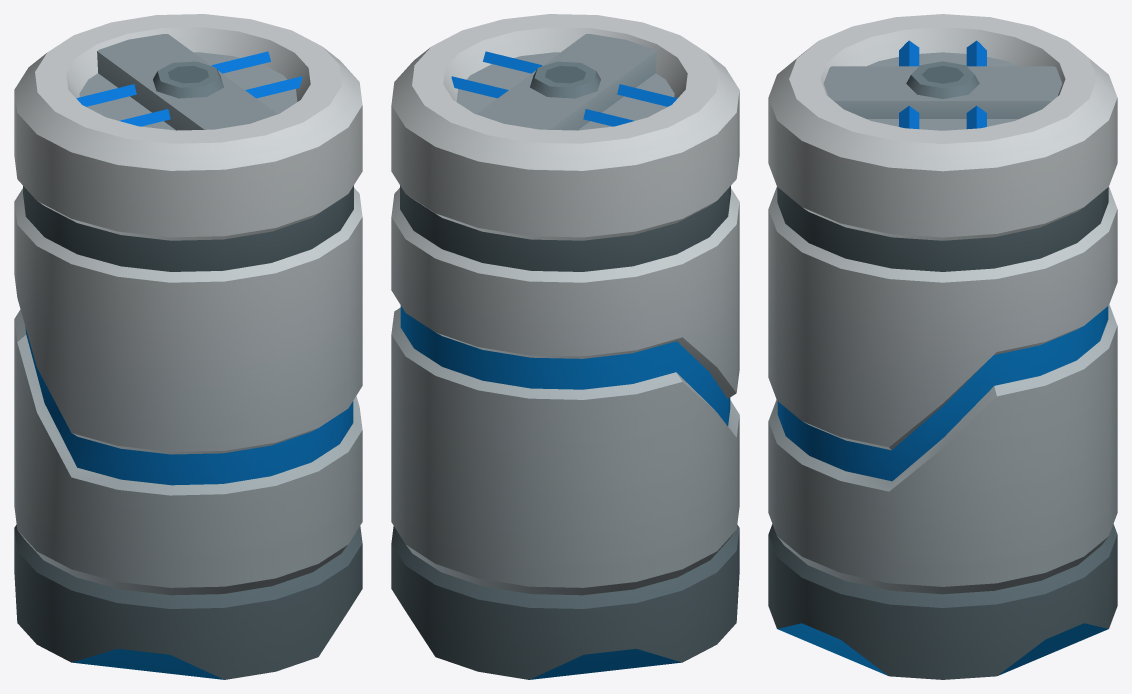
File: Barrel_001.fbx
3 views of the same model, side by side, from view 1: azimuth 30°, elevation 25°; view 2: azimuth 150°, elevation 25°; view 3: azimuth 270°, elevation 25° (orthographic).
Parts seen in each view (by area): view 1: Barrel_001; view 2: Barrel_001; view 3: Barrel_001.
Boxes of the visible parts, box(x1,y1,x2,y2) form: Barrel_001: box(14, 14, 362, 679); Barrel_001: box(391, 14, 739, 679); Barrel_001: box(768, 14, 1117, 679).
Size of the model in its own units: 60 by 60 by 101.
